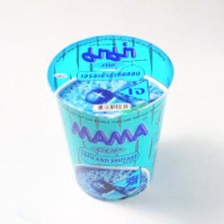paper_cup: (41, 30, 178, 204)
